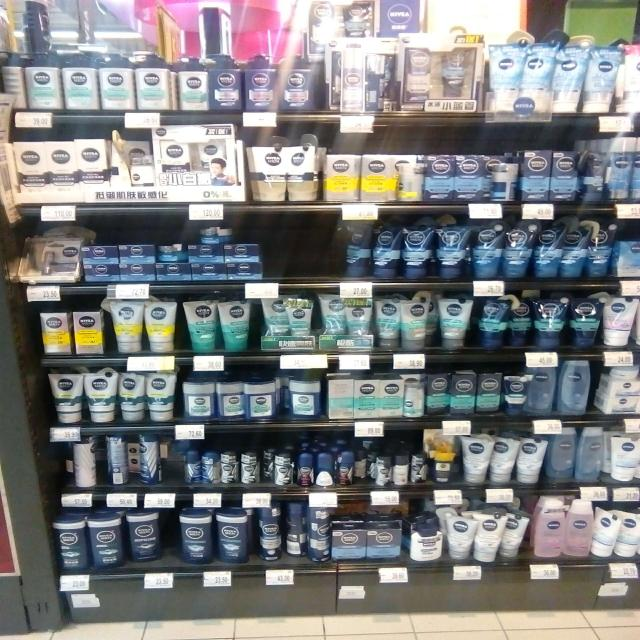void: (303, 214, 337, 292), (267, 212, 300, 292)
